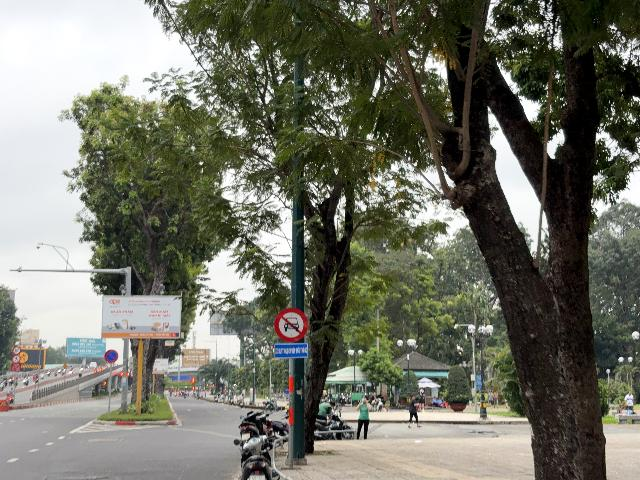cam-o-to: (274, 308, 308, 343)
